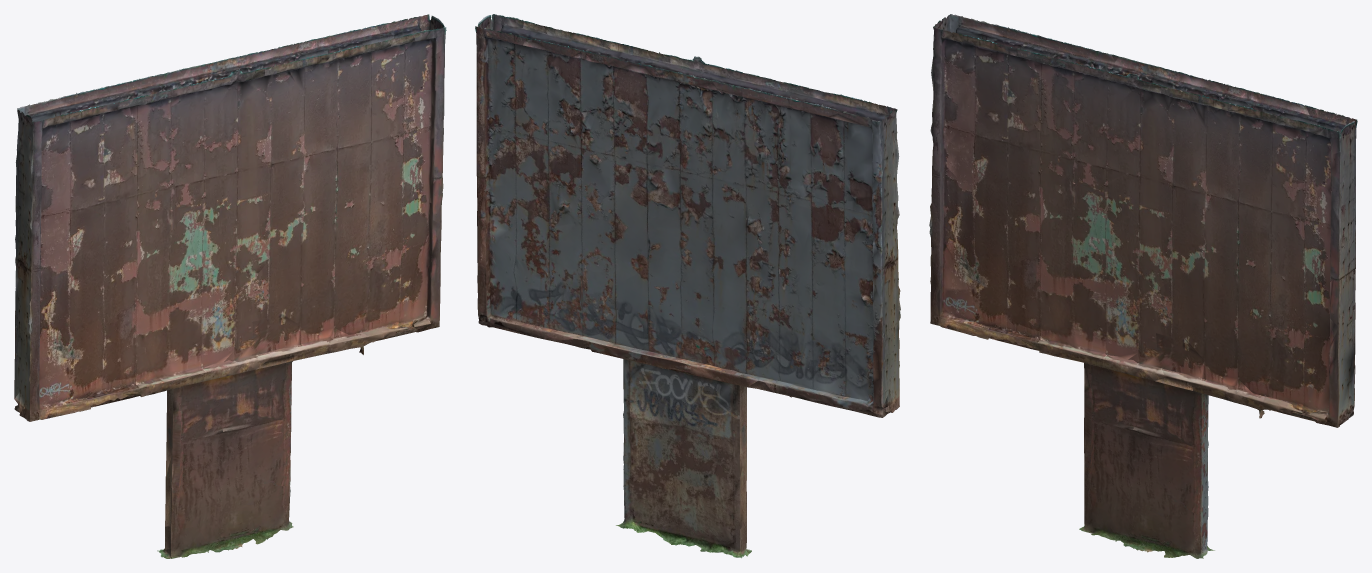
The model's file is rusty-sign.glb.
The picture shows the model from 3 angles, left to right: view 1: azimuth 30°, elevation 25°; view 2: azimuth 150°, elevation 25°; view 3: azimuth 330°, elevation 25°; orthographic projection.
Visible parts, largest first — view 1: Object_2; view 2: Object_2; view 3: Object_2.
Boxes of the visible parts, x1,y1,x2,y2 form: Object_2: [14, 14, 446, 558]; Object_2: [475, 14, 900, 558]; Object_2: [929, 14, 1357, 558].
Bounding box in the file's own units: 2.88 × 3.2 × 0.251.
Materials: 1 (1 with a texture image).
